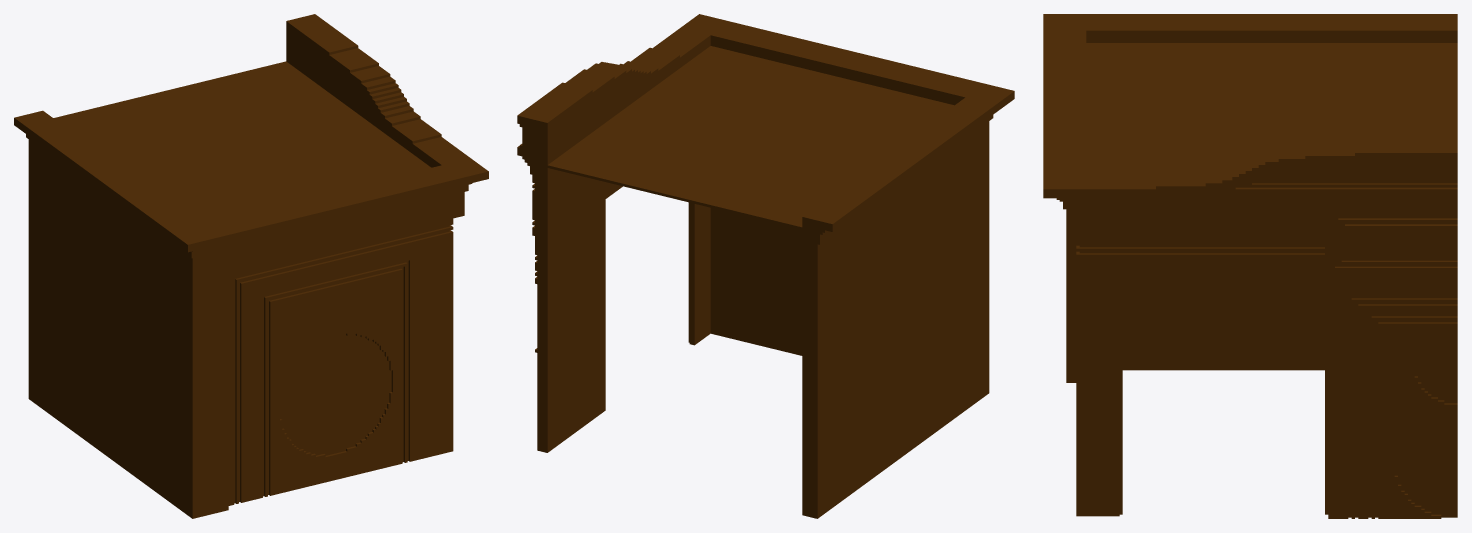
File: armoire_haut_gauche.obj
3 views of the same model, side by side, from view 1: azimuth 30°, elevation 25°; view 2: azimuth 150°, elevation 25°; view 3: azimuth 270°, elevation 25° (orthographic). The views are drawn at different scales.
Size of the model in its own units: 125 by 125 by 125.
1 material, 1 textured.
